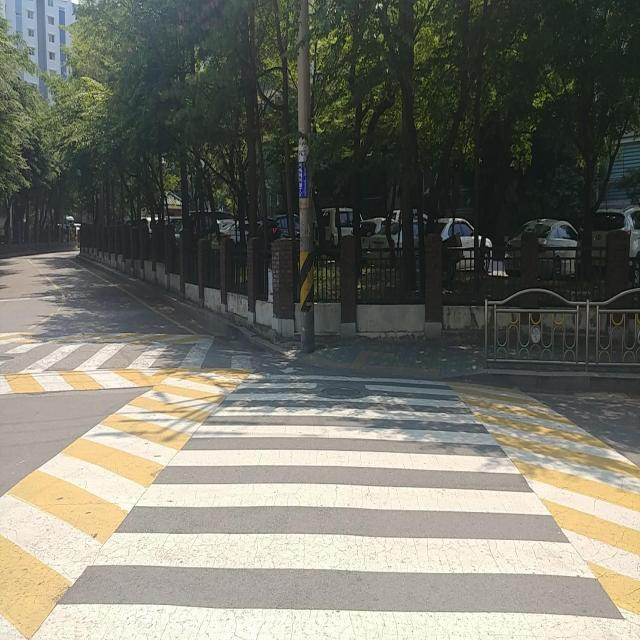횡단보도: (32, 388, 635, 640), (0, 323, 265, 386)
